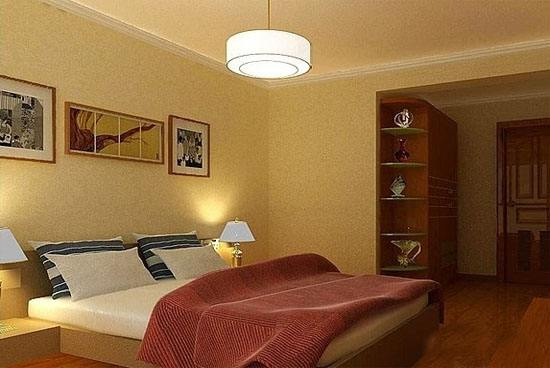床: (23, 253, 446, 362)
枕头: (50, 235, 227, 298)
灯: (217, 27, 312, 81), (214, 217, 254, 271)
